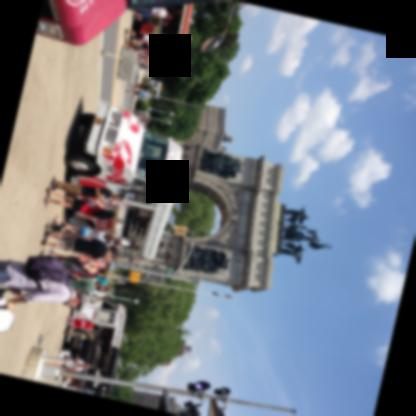backpack: (25, 255, 72, 298), (78, 273, 97, 279)
handbag: (82, 197, 94, 207), (69, 272, 97, 276), (63, 355, 75, 359), (135, 90, 139, 95)
